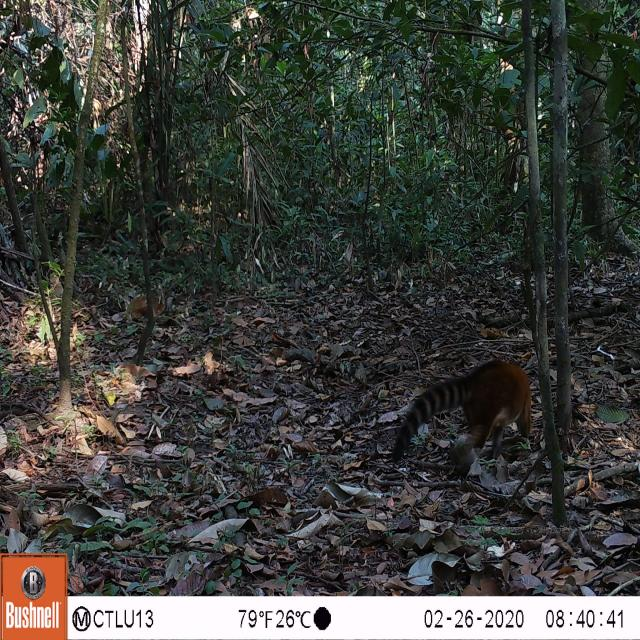South American Coati: (380, 351, 540, 477)
